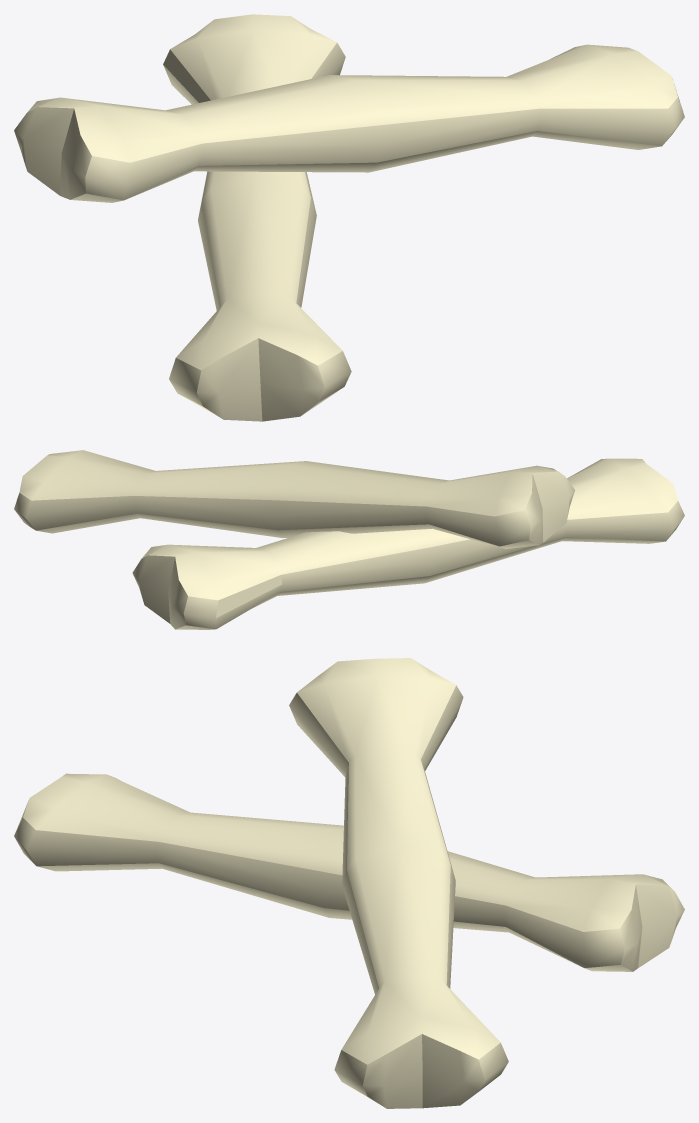
File: SM_Dog_Bone_2_01.fbx
3 renders of one model, top to bottom at view 1: azimuth 30°, elevation 25°; view 2: azimuth 150°, elevation 25°; view 3: azimuth 270°, elevation 25°, orthographic. The views are drawn at different scales.
Visible parts, largest first — view 1: SM_Dog_Bone_2_01; view 2: SM_Dog_Bone_2_01; view 3: SM_Dog_Bone_2_01.
Boxes of the visible parts, x1,y1,x2,y2 form: SM_Dog_Bone_2_01: [14, 14, 684, 421]; SM_Dog_Bone_2_01: [14, 450, 684, 629]; SM_Dog_Bone_2_01: [14, 658, 684, 1108].
Size of the model in its own units: 36.29 by 10.69 by 34.03.
